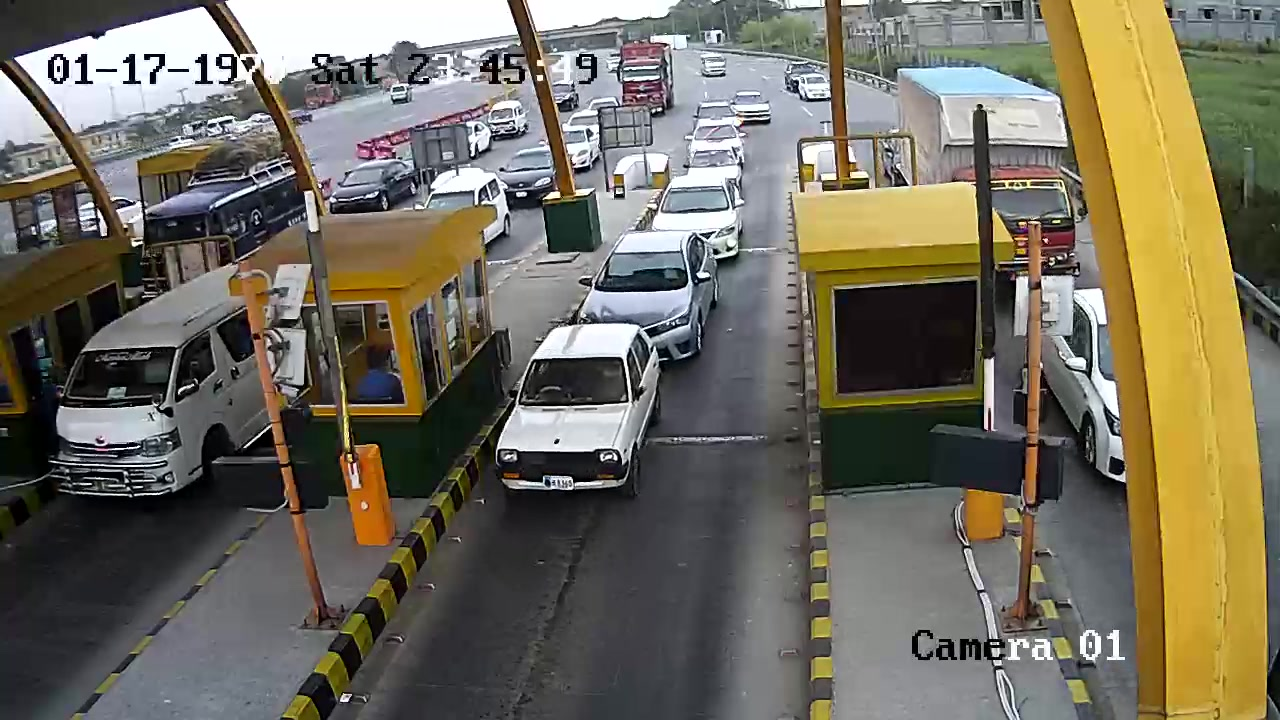F1: (486, 316, 676, 509)
